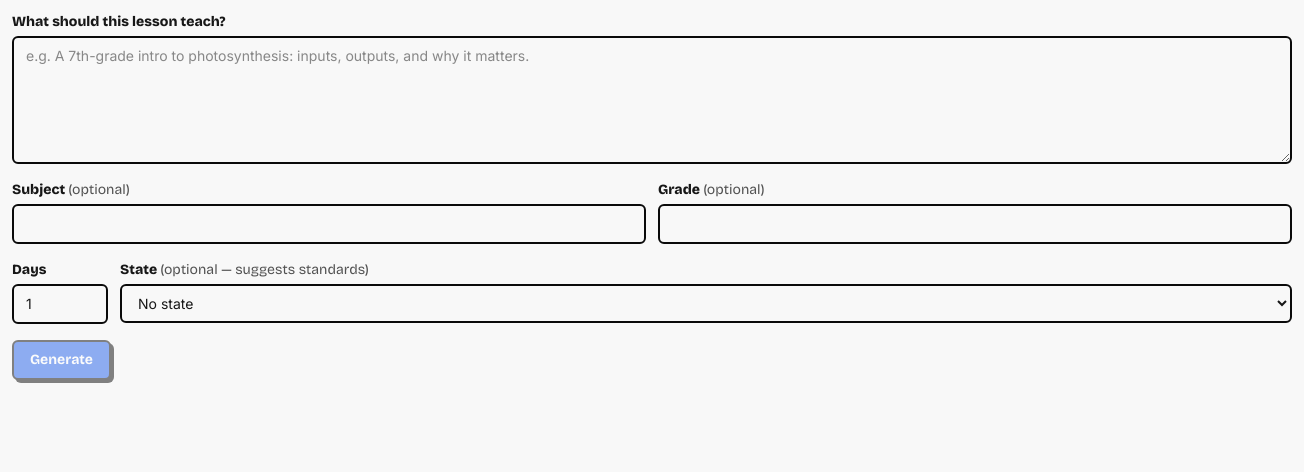
it: GenerateLessonStudio › shows an error message when generate fails
Step 1. Replace the text in the text box labelled "What should this lesson teach?" with "x" → coordinates (652, 100), box [12,36,1292,164]
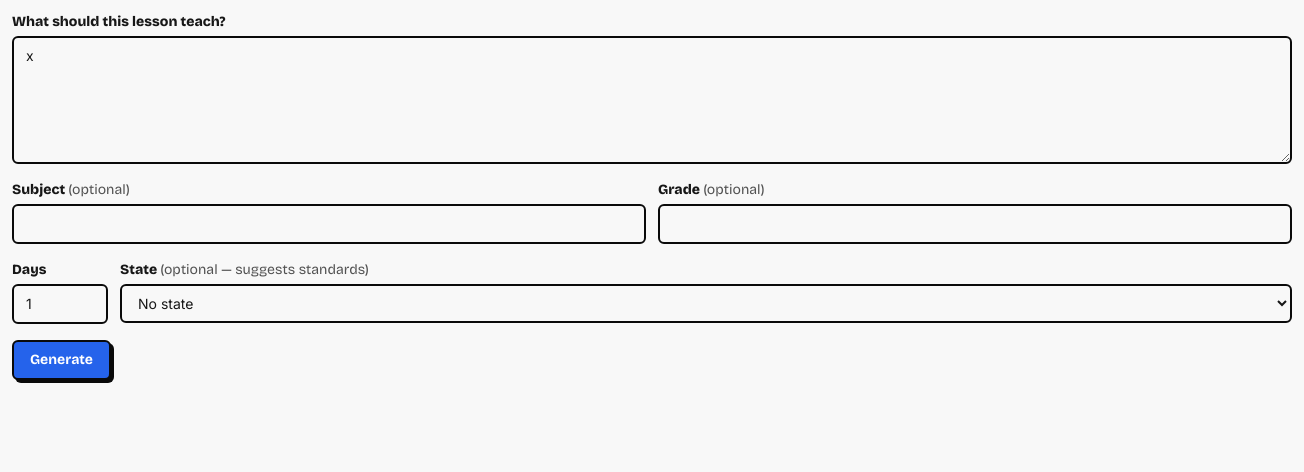
Step 2. Click the button "Generate" → coordinates (62, 360), box [12,340,111,380]
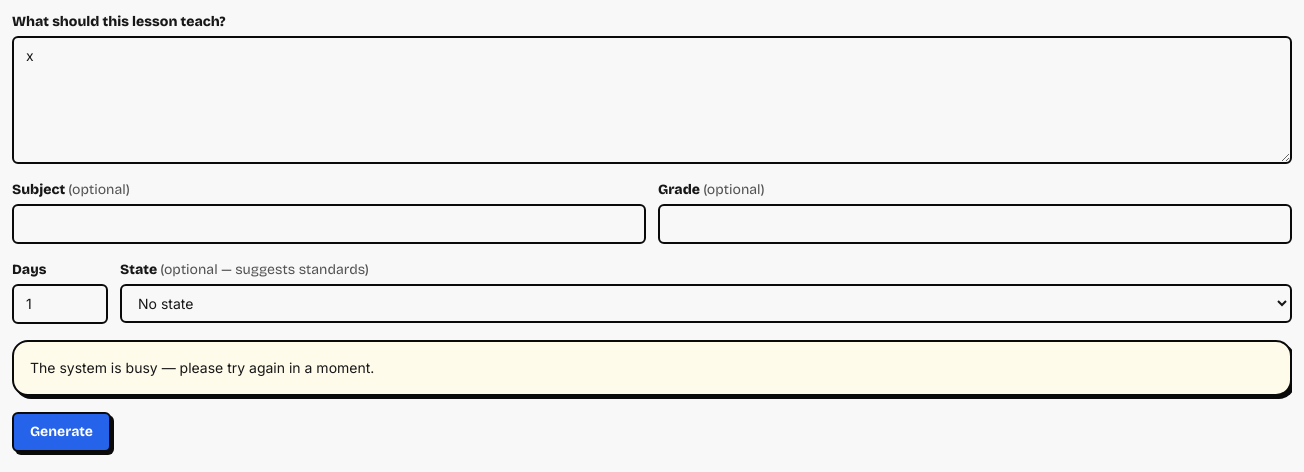
Now the message shows "busy", box [30,359,374,376]
